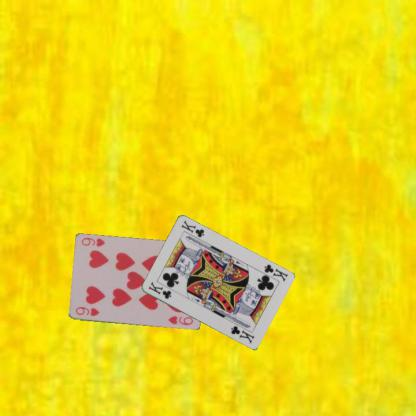9h: (73, 304, 100, 318)
Kc: (261, 262, 289, 283), (146, 279, 172, 301)
